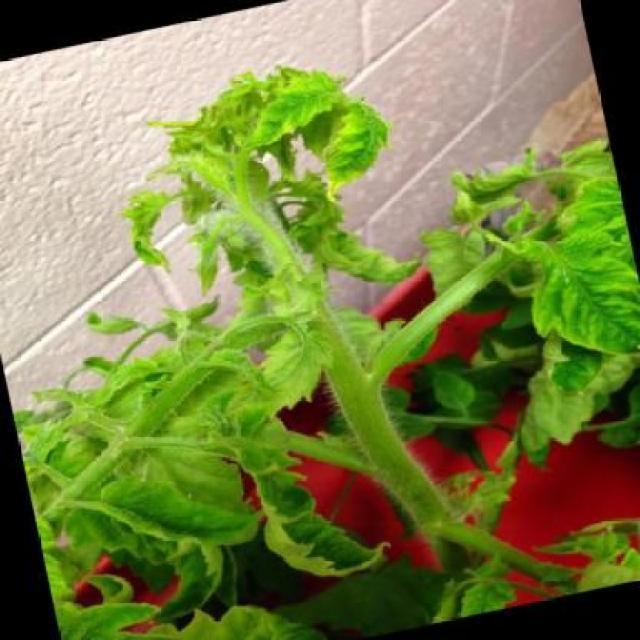Healthy Leaf: (227, 411, 392, 606), (73, 447, 261, 584), (297, 94, 414, 219), (222, 59, 348, 165), (221, 313, 341, 424)
